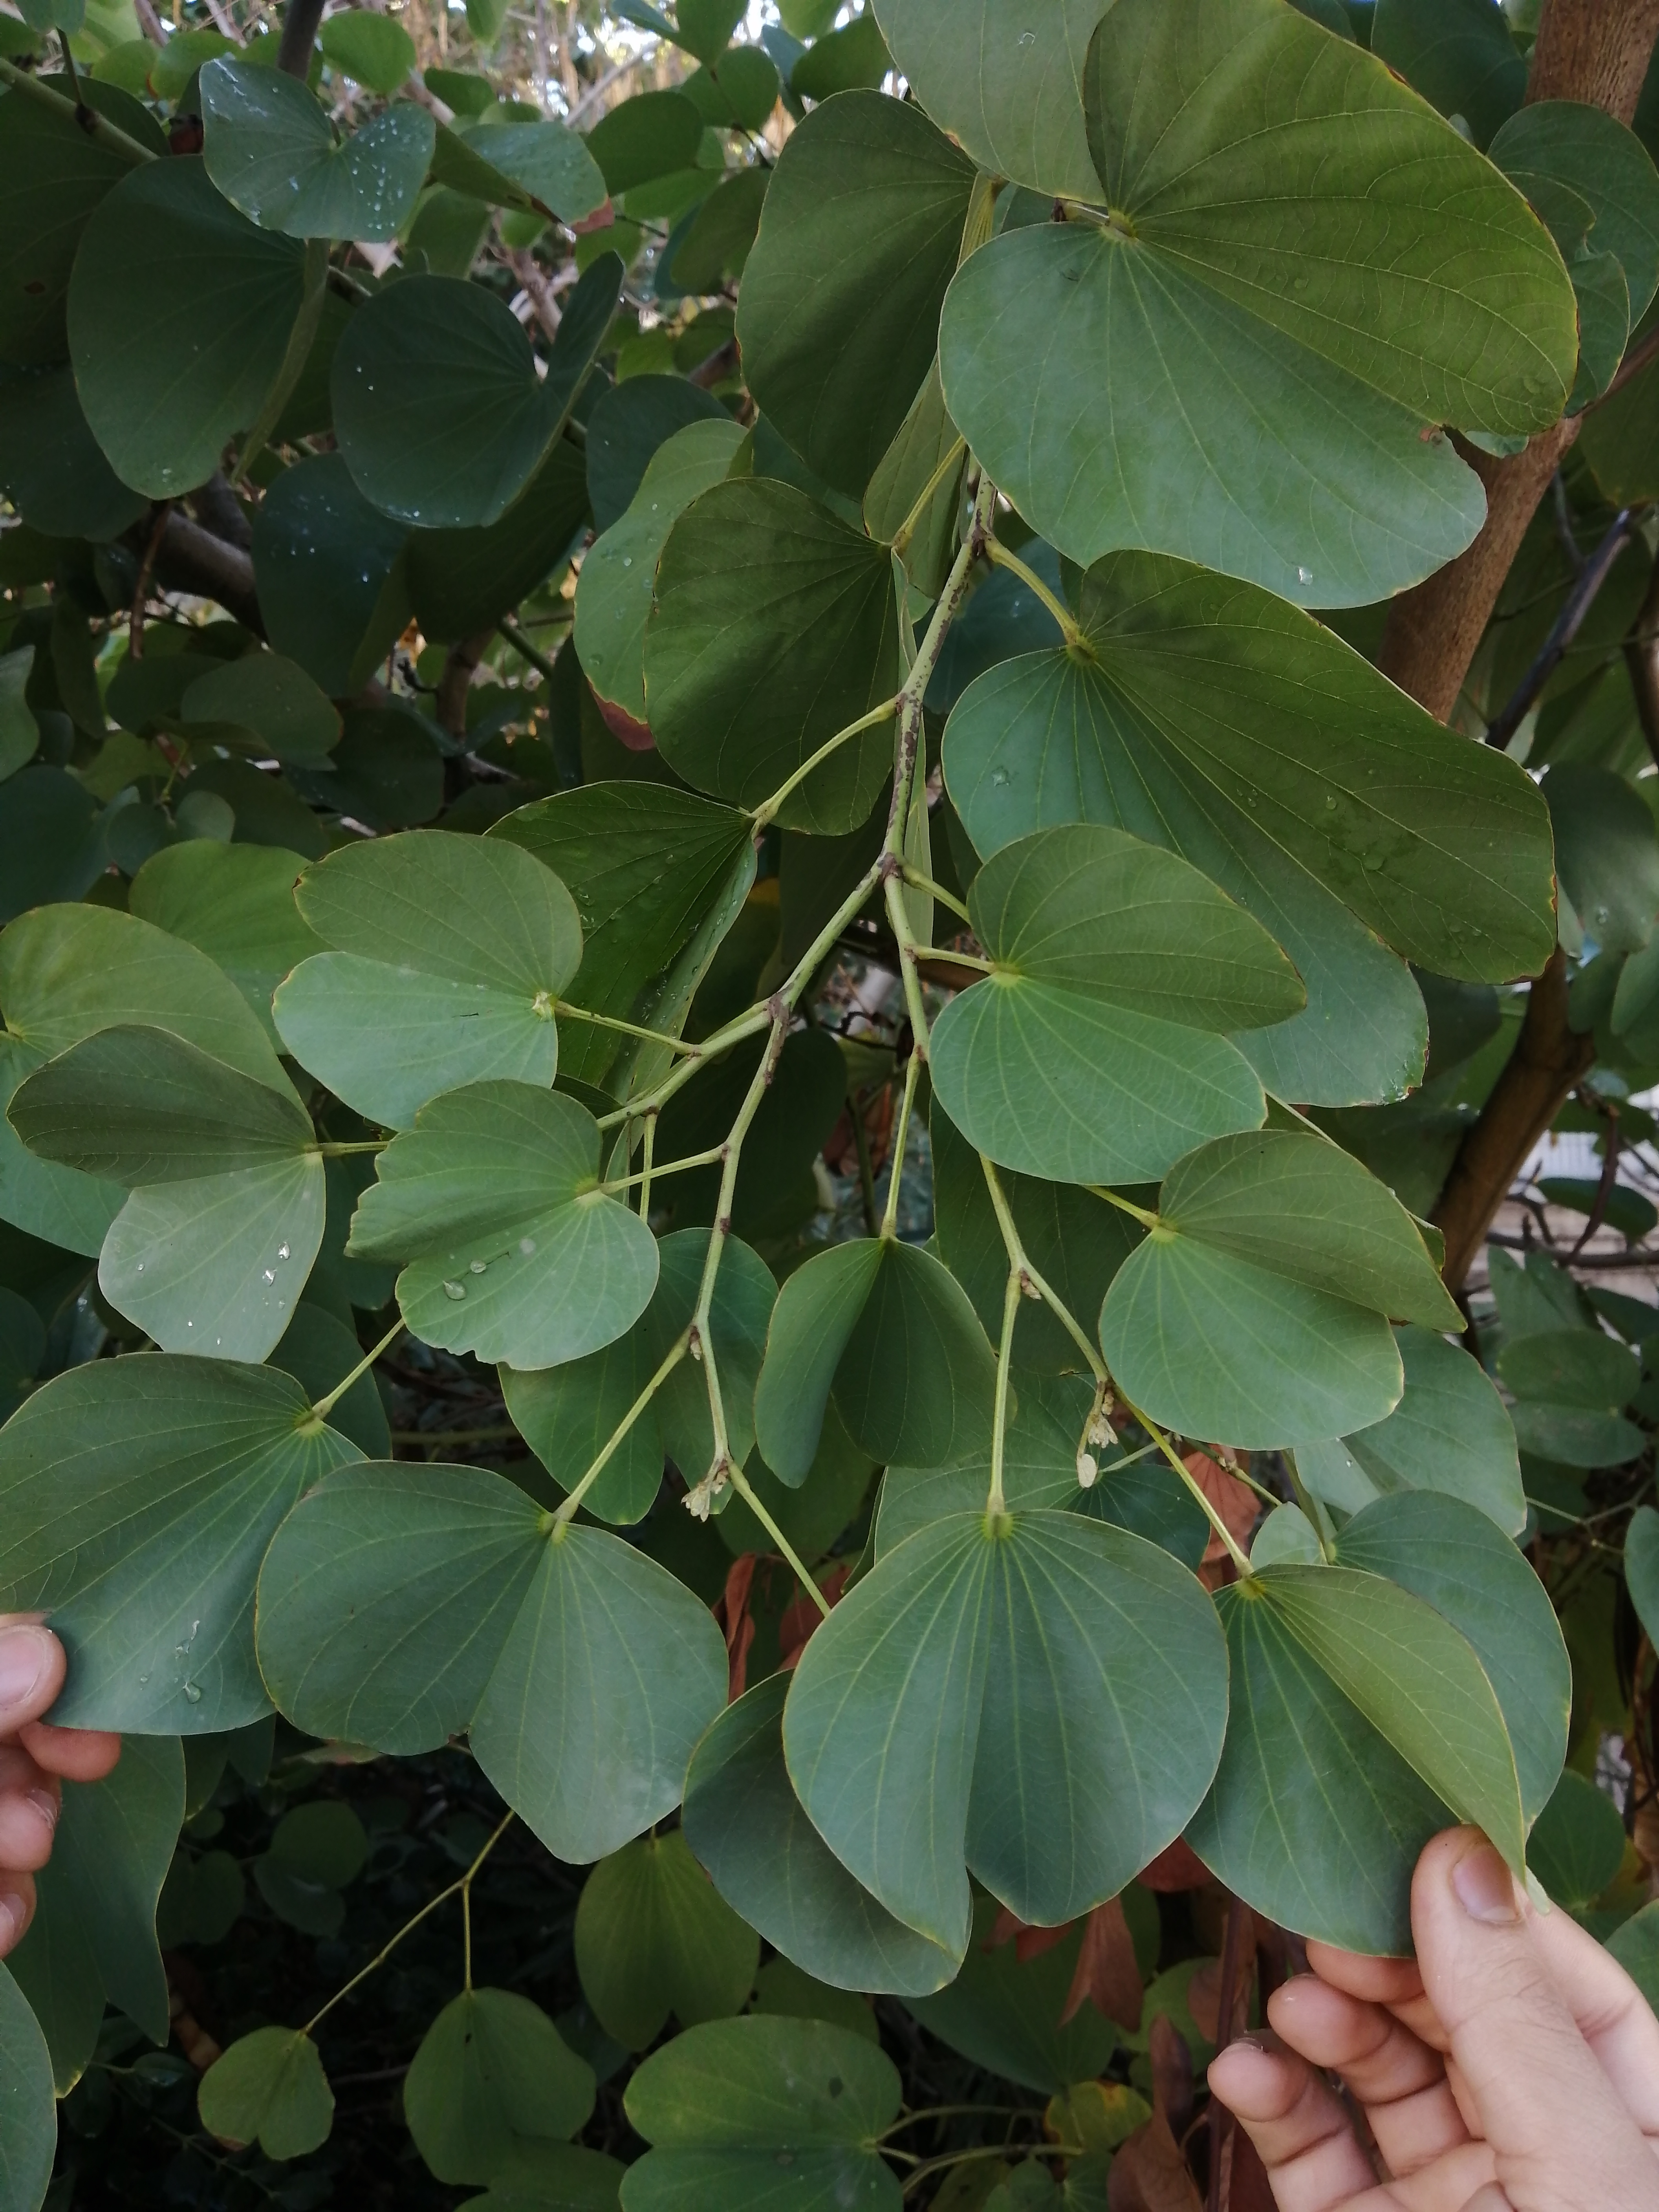healthy: (934, 10, 1600, 608), (244, 1390, 739, 1857), (779, 1460, 1180, 1946), (873, 867, 1314, 1184), (1086, 1129, 1493, 1470), (272, 819, 622, 1165), (291, 223, 645, 543), (33, 1015, 350, 1369), (352, 1052, 683, 1388)
